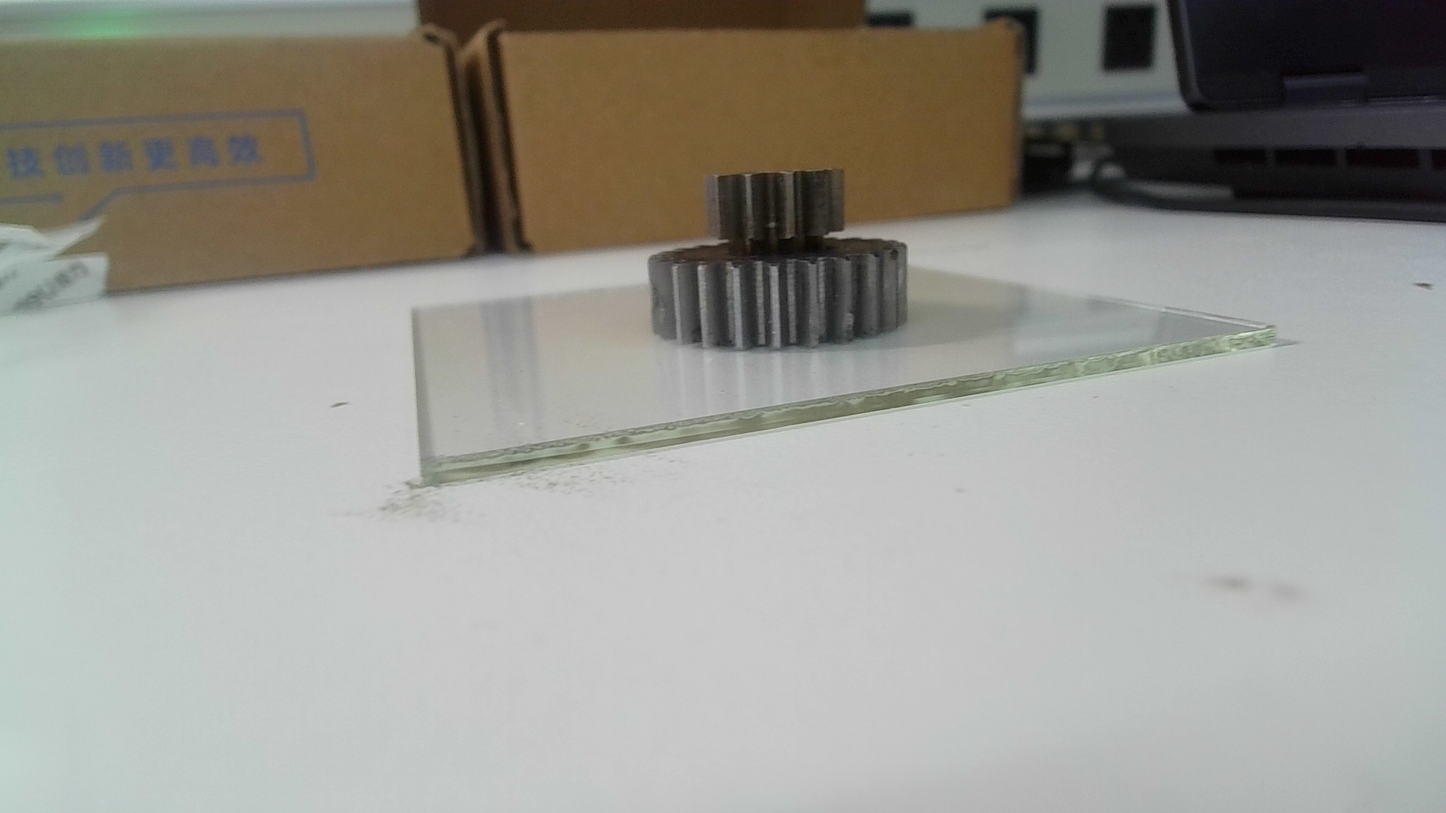gear: (644, 166, 914, 352)
